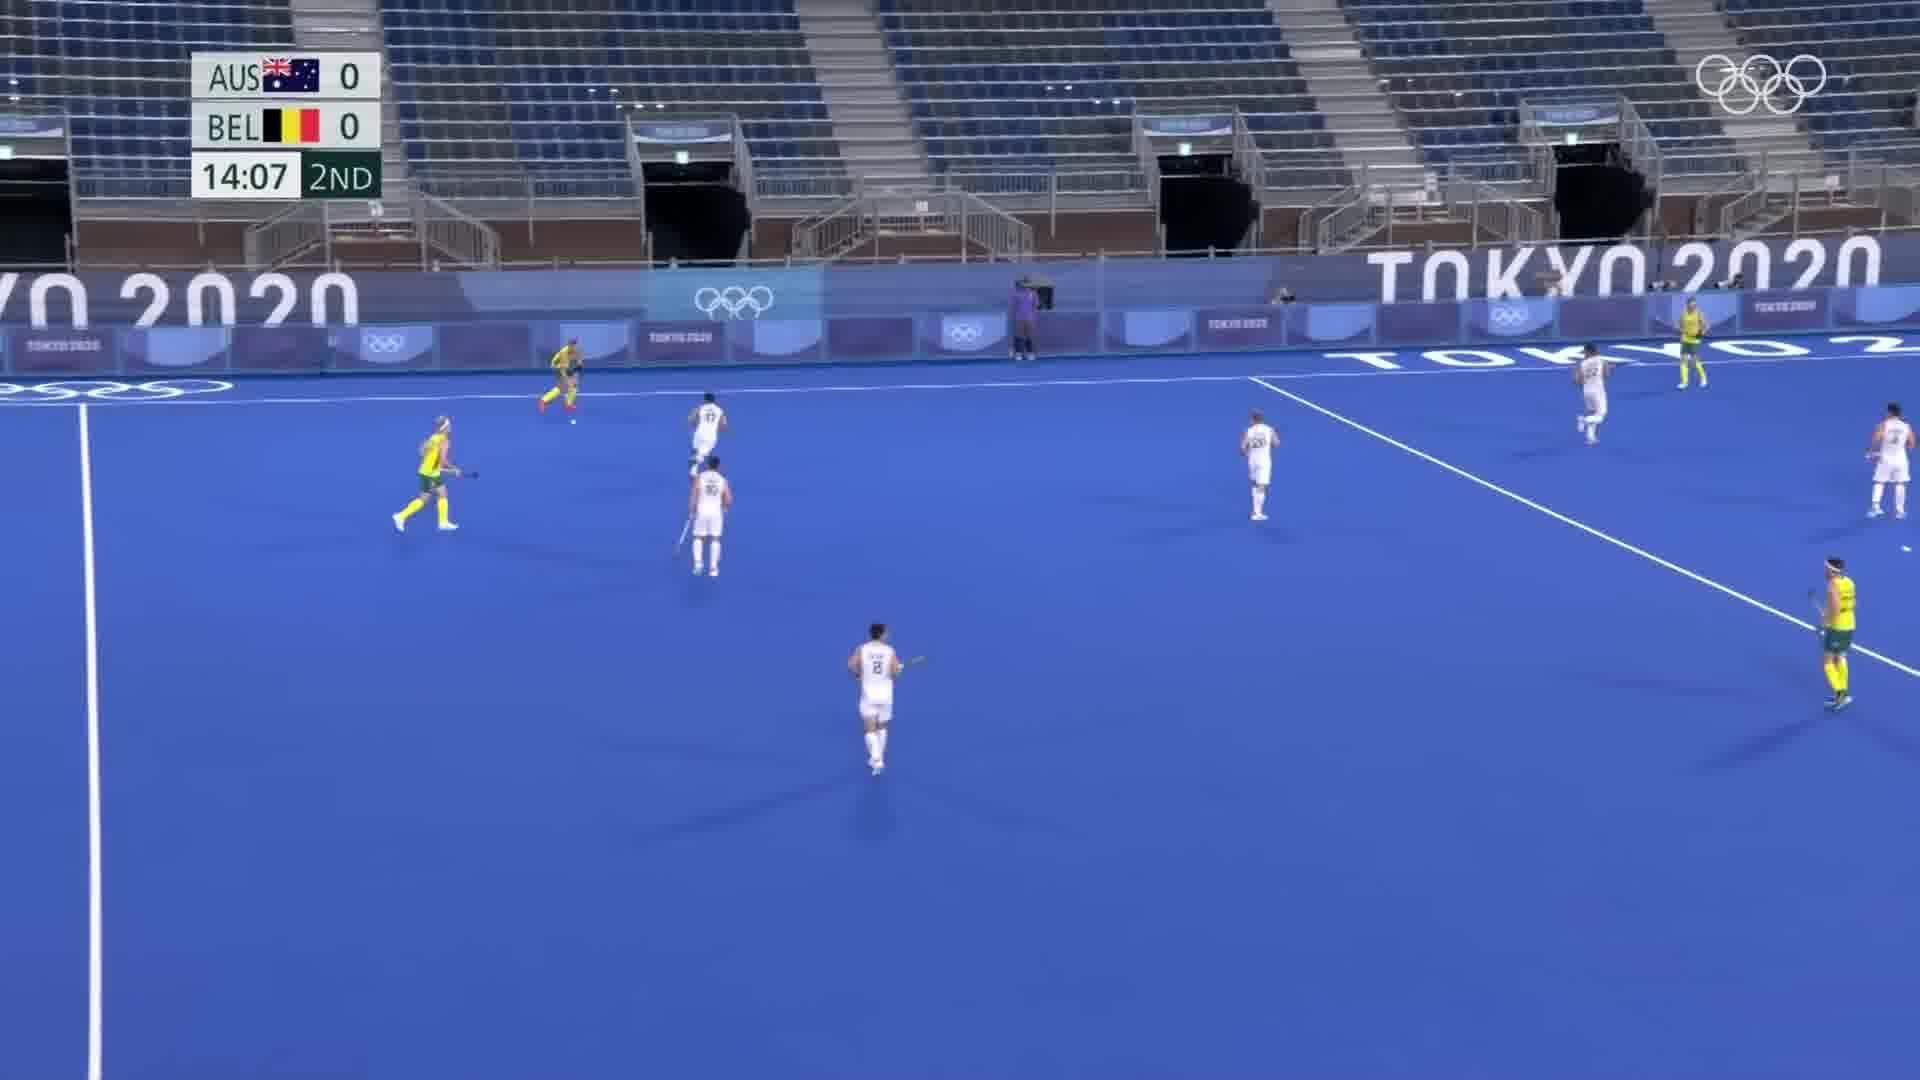ball: (567, 415, 582, 429)
